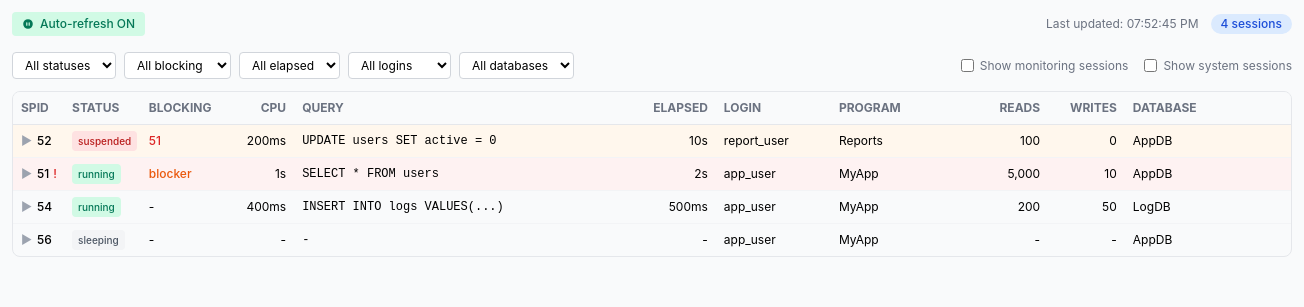
Test: CurrentActivity › shows monitoring sessions when "Show monitoring sessions" is toggled
The image size is (1304, 307).
Click the checkbox with test id "show-monitoring-toggle". click: (967, 66)
box: [961,59,974,72]
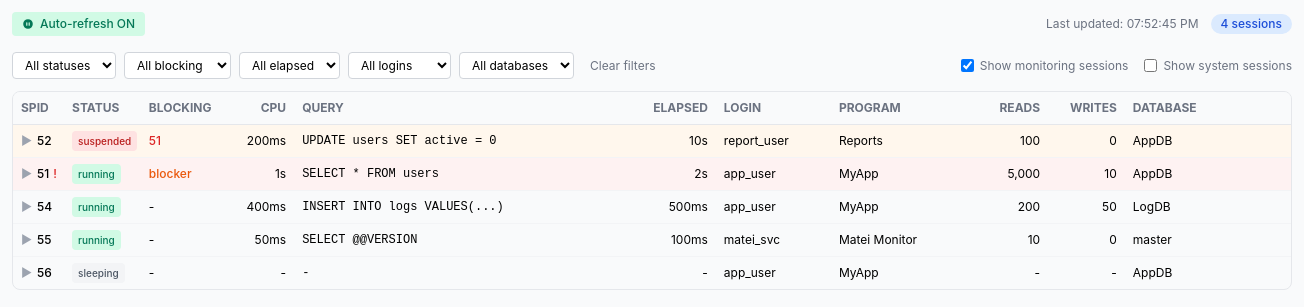
Expected: the row with test id "session-row-55" is shown, [13,224,1291,256]
